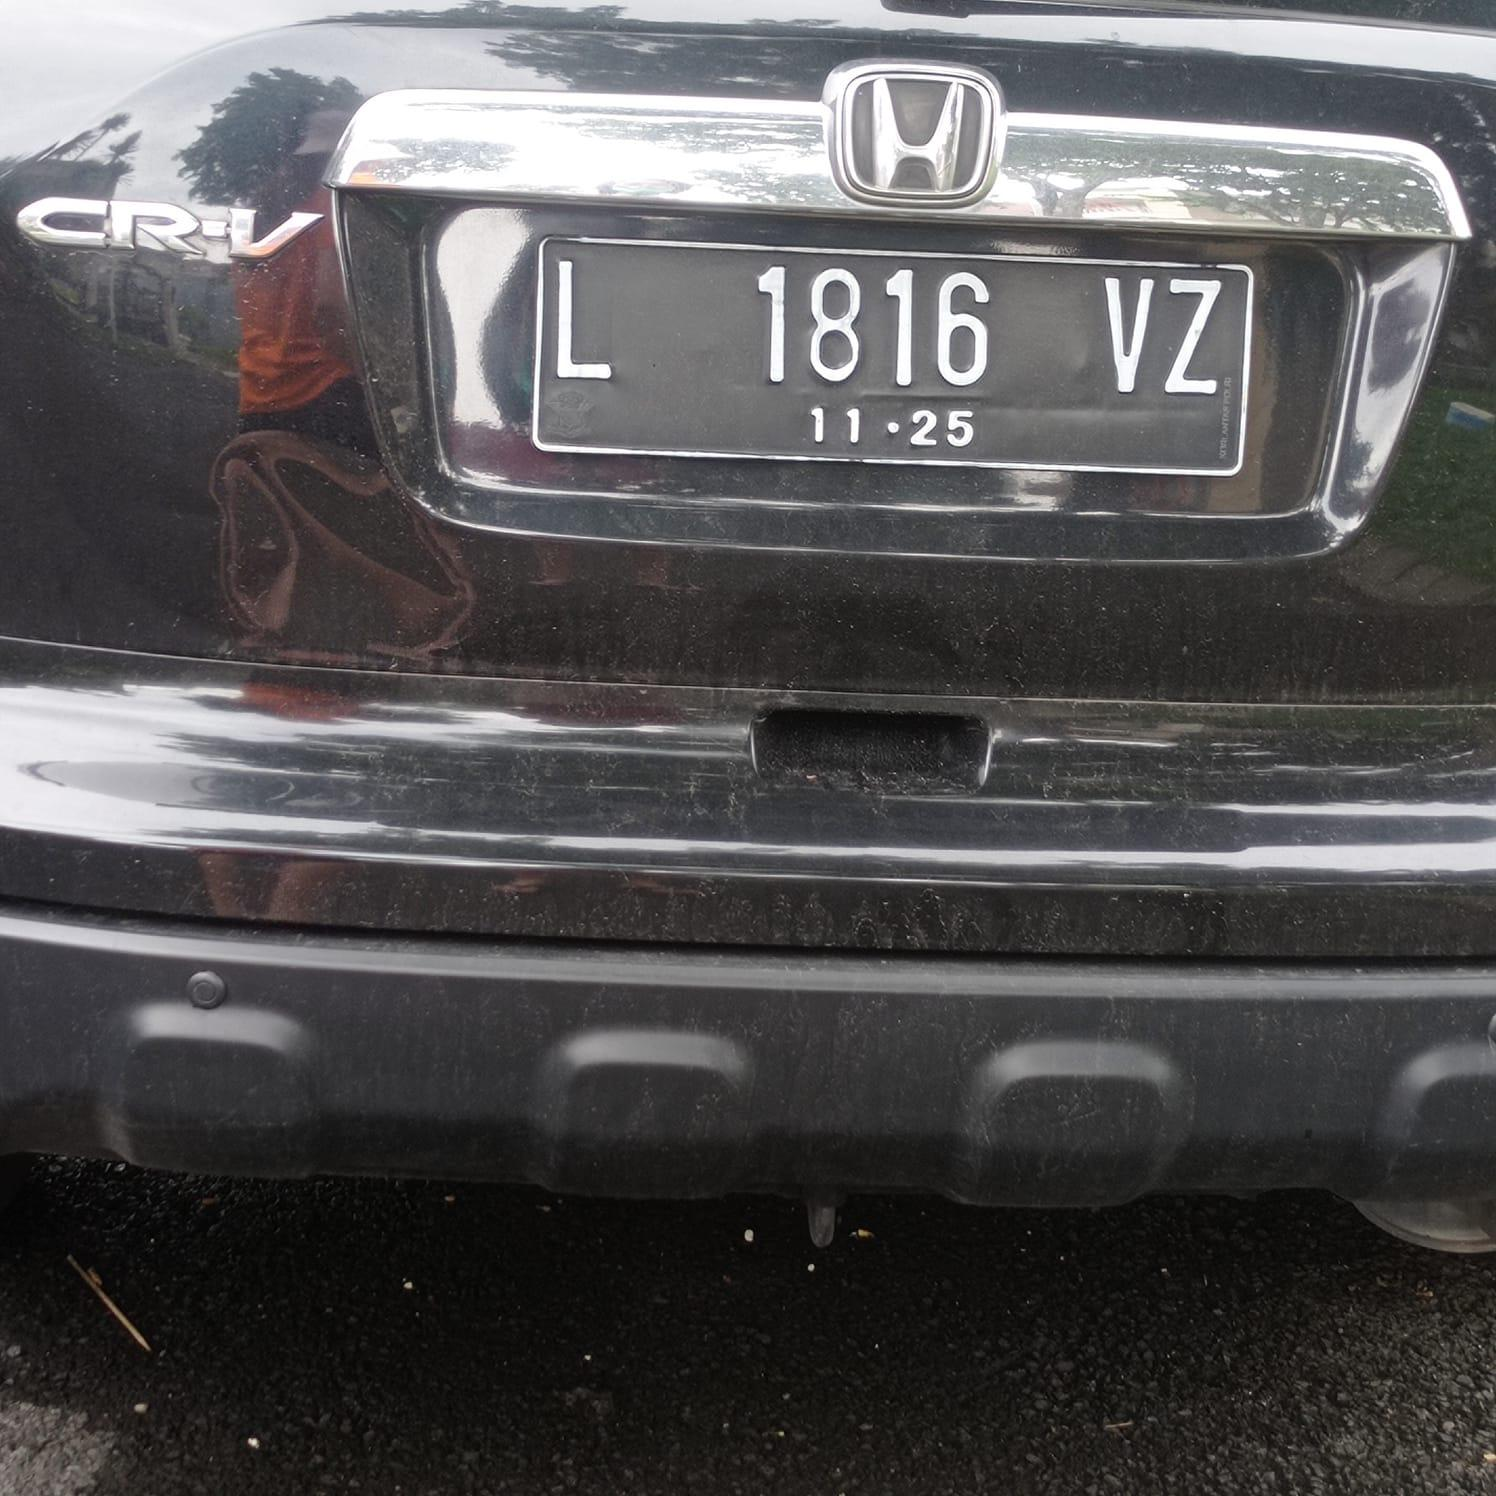plat: (532, 240, 1254, 477)
